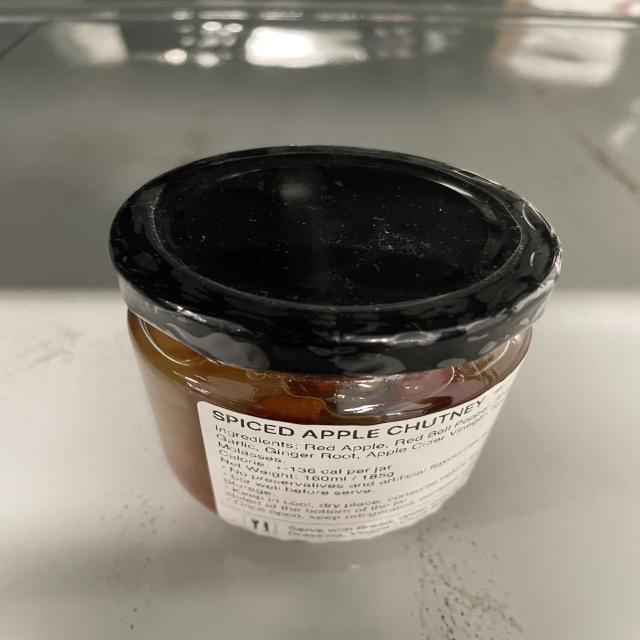object_name: (109, 154, 552, 543)
